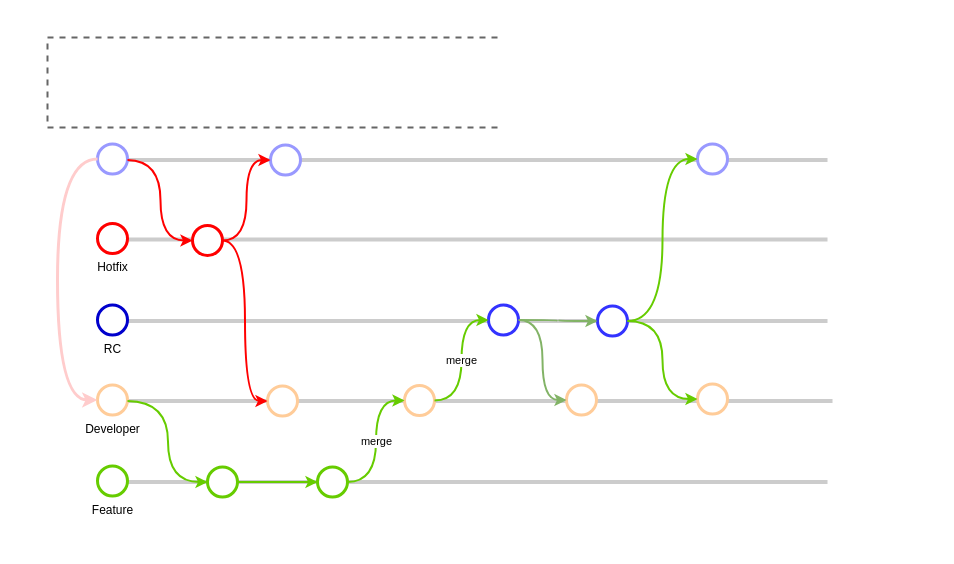
This 954x564 diagram has some shape labels left out. Each missing label, with the box of its shape:
Git Flow - git work flow: (46, 36, 498, 128)
Master: (96, 143, 128, 174)
